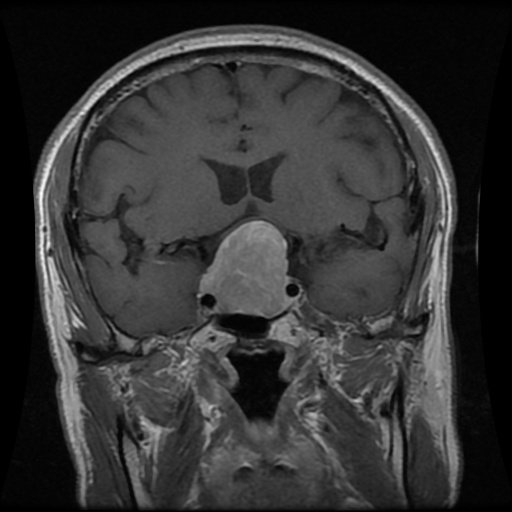pituitary: (197, 219, 299, 318)
